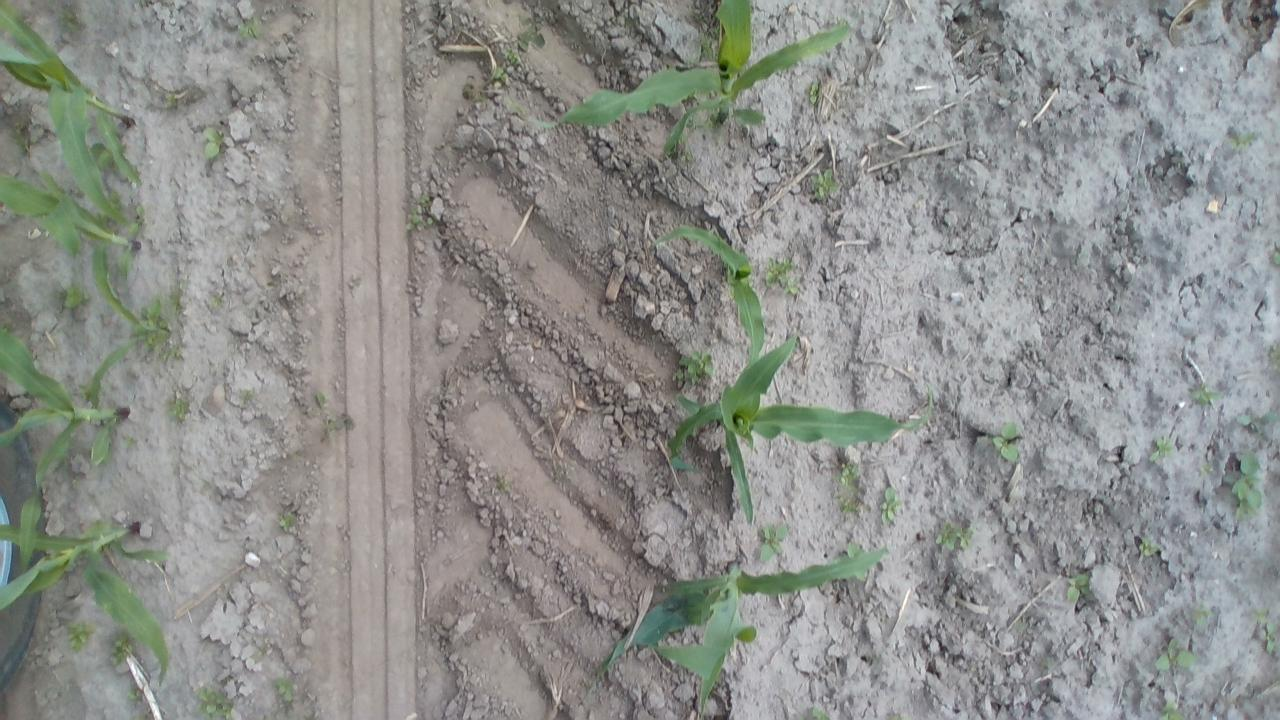Maize: (664, 332, 936, 523), (509, 0, 851, 146), (596, 547, 882, 720), (0, 320, 145, 578), (0, 0, 143, 217), (0, 524, 173, 692), (0, 168, 143, 326), (652, 225, 768, 371)
Weeds: (132, 283, 184, 358), (1232, 447, 1266, 518), (86, 138, 132, 180), (932, 520, 978, 552), (1154, 639, 1198, 672), (765, 255, 799, 295), (195, 685, 232, 720), (988, 422, 1020, 462), (678, 350, 714, 382), (694, 25, 722, 66), (758, 524, 788, 562), (516, 18, 547, 53), (64, 620, 98, 650), (834, 456, 860, 494), (880, 486, 904, 526), (810, 168, 840, 200), (848, 540, 868, 582), (1237, 412, 1279, 432), (202, 126, 228, 158), (125, 202, 146, 239), (110, 632, 134, 664), (1066, 574, 1093, 602), (62, 282, 90, 306), (272, 676, 296, 704), (1191, 384, 1223, 405), (75, 379, 104, 402), (1149, 436, 1175, 461), (57, 8, 82, 34), (236, 18, 264, 41), (1157, 702, 1189, 720), (1225, 132, 1256, 150), (834, 493, 860, 514), (1263, 620, 1278, 654), (165, 399, 188, 421), (94, 210, 118, 231), (1192, 601, 1212, 626), (308, 390, 326, 416), (406, 205, 424, 230), (327, 416, 355, 431), (684, 116, 714, 130), (492, 66, 509, 89), (104, 188, 122, 208), (278, 511, 296, 531), (1140, 537, 1158, 556), (238, 388, 258, 404), (1250, 606, 1270, 622), (502, 48, 522, 64), (806, 81, 819, 105), (812, 706, 832, 720), (707, 104, 721, 122), (126, 688, 143, 702), (1270, 346, 1280, 369), (680, 148, 694, 164), (675, 129, 688, 144), (164, 92, 176, 107), (125, 434, 137, 448), (418, 193, 430, 207), (210, 296, 222, 308), (672, 368, 684, 380), (887, 713, 907, 720), (1274, 243, 1280, 266), (1200, 463, 1212, 474), (133, 713, 148, 720), (686, 56, 694, 68), (475, 94, 486, 102), (264, 716, 278, 720), (257, 650, 264, 657), (799, 716, 809, 720), (428, 217, 433, 225)
